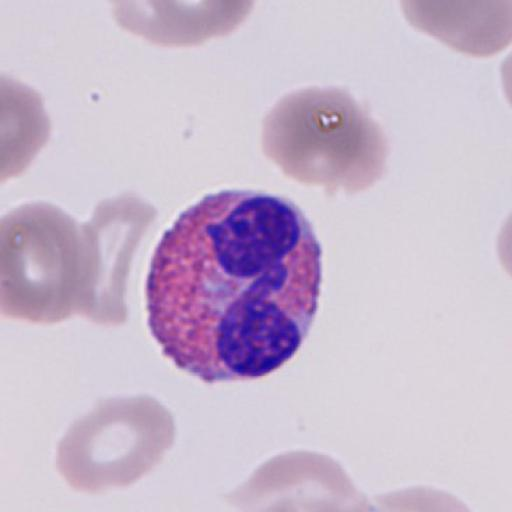RBC: (66, 189, 165, 329), (258, 81, 383, 190), (53, 392, 178, 496), (3, 199, 102, 325), (227, 447, 376, 512), (106, 0, 258, 49), (400, 0, 512, 60), (2, 72, 53, 186), (327, 110, 392, 196), (107, 0, 213, 50), (147, 0, 259, 44), (370, 483, 482, 512), (234, 495, 354, 512), (156, 0, 243, 22), (491, 203, 512, 290), (492, 210, 512, 281), (496, 36, 512, 111)
WBC: (247, 219, 511, 512), (141, 186, 325, 386)
